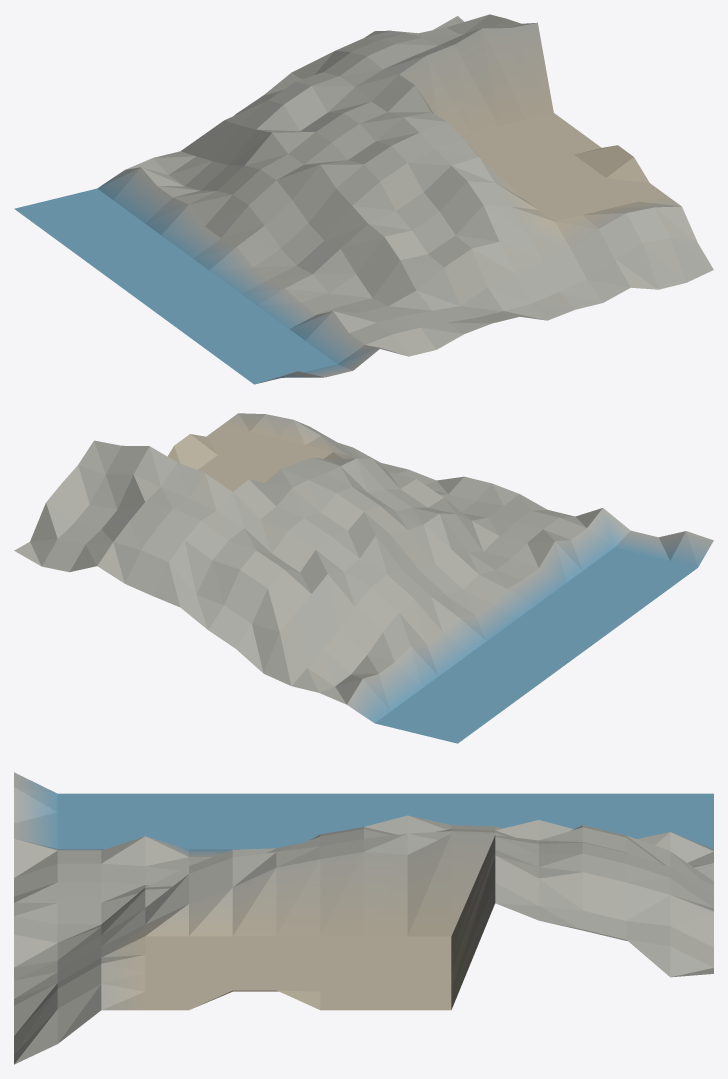
3 renders of one model, top to bottom at view 1: azimuth 30°, elevation 25°; view 2: azimuth 150°, elevation 25°; view 3: azimuth 270°, elevation 25°, orthographic. The views are drawn at different scales.
Size of the model in its own units: 32 by 9.94 by 32.
